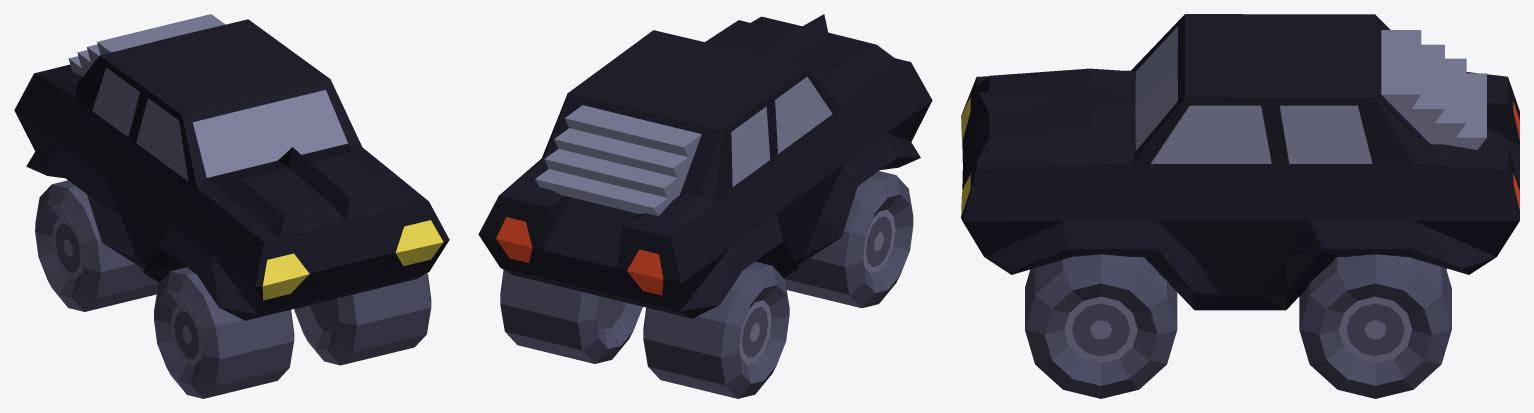
Rendered from Car_Black.fbx.
3 views of the same model, side by side, from view 1: azimuth 30°, elevation 25°; view 2: azimuth 150°, elevation 25°; view 3: azimuth 270°, elevation 25° (orthographic). The views are drawn at different scales.
Visible parts, largest first — view 1: Car_Black; view 2: Car_Black; view 3: Car_Black.
Part boxes in pixels (<box>): Car_Black: <box>14,14,449,398</box>; Car_Black: <box>478,14,932,398</box>; Car_Black: <box>961,14,1519,398</box>.
Bounding box in the file's own units: 108 × 111 × 198.
